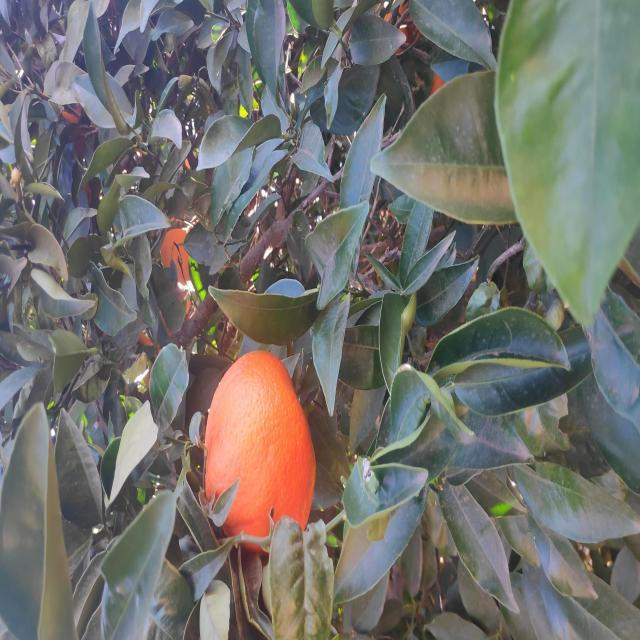Jeruk Sudah Matang: (86, 202, 290, 315)
